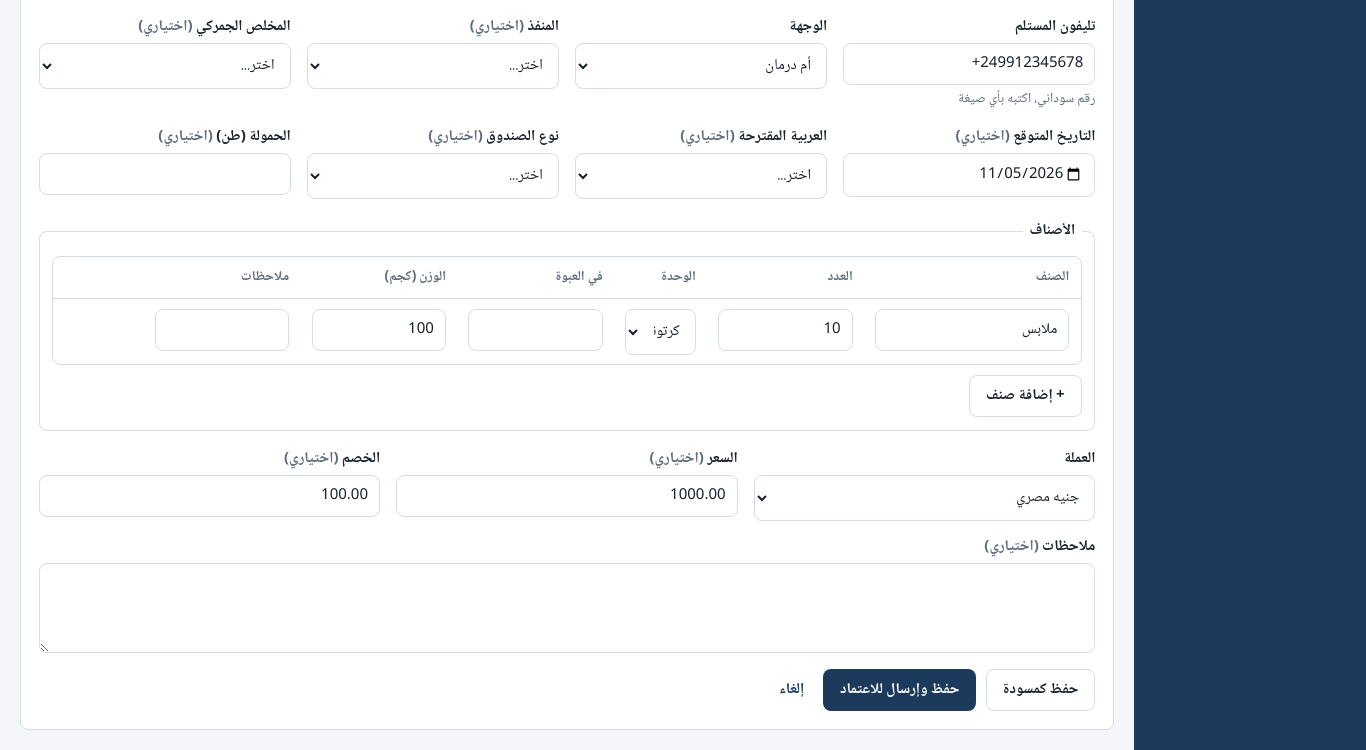
it: express shipment bus trip › keeps the trip an existing draft already holds even when it is full, and shows the server refusal
(page scrolled)
Click the button "حفظ كمسودة": (1041, 690) [986, 669, 1095, 711]
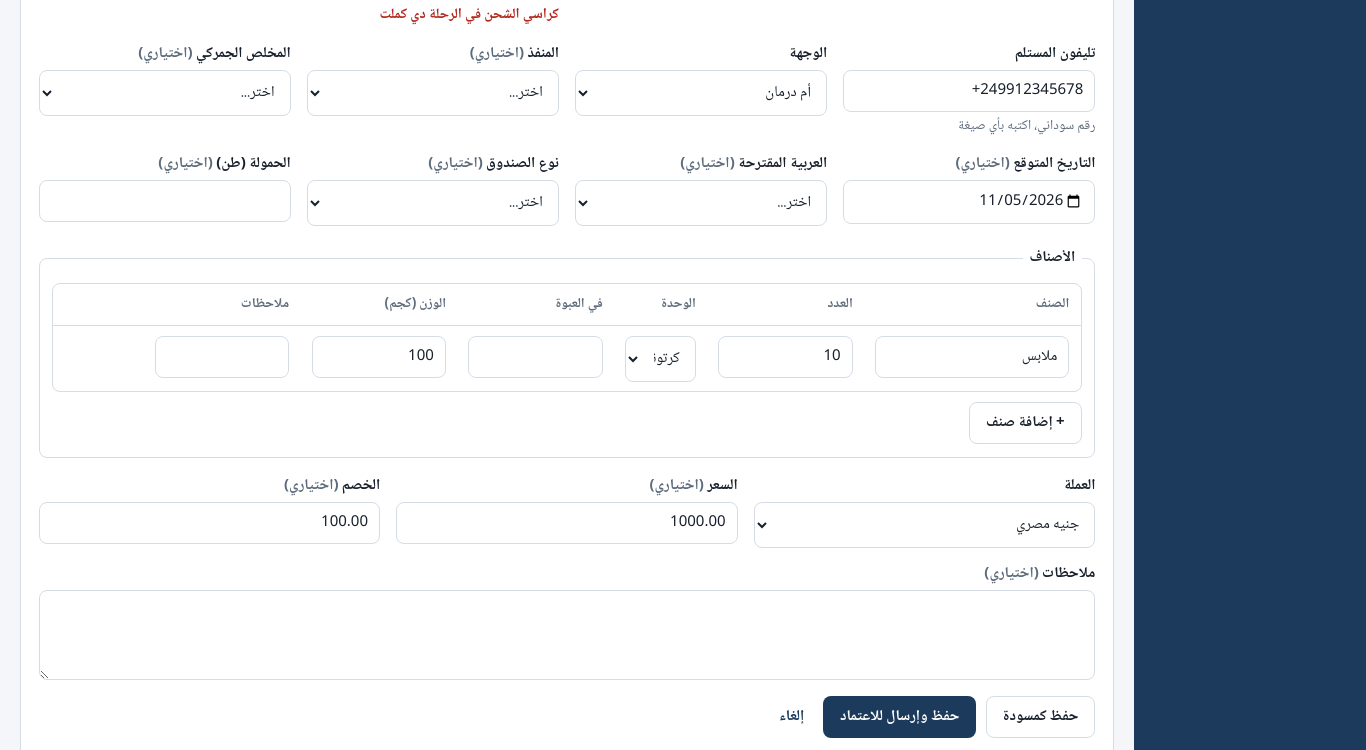
Expected: the text "كراسي الشحن في الرحلة دي كملت" is shown, [380, 3, 559, 27]
